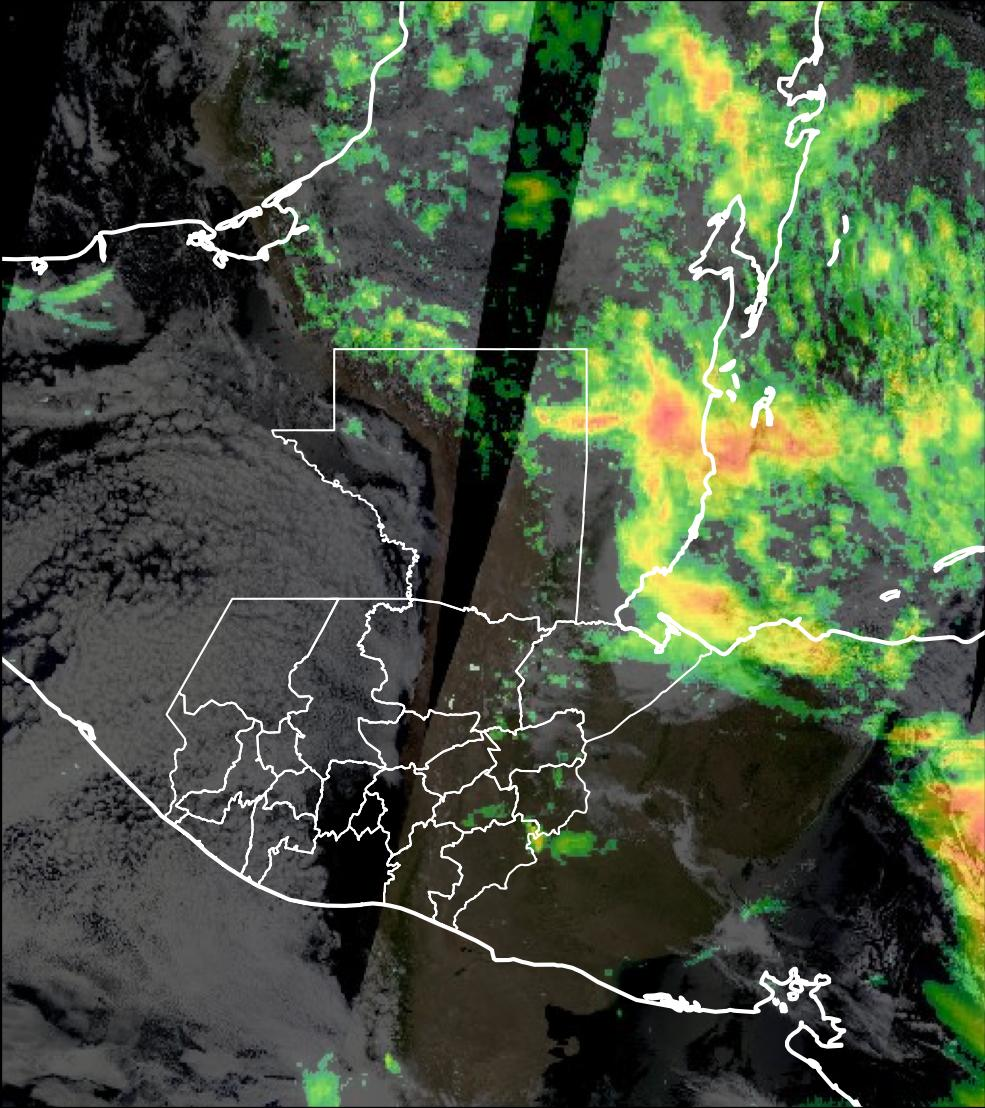precipitacion: (626, 349, 703, 488), (919, 770, 985, 932)
